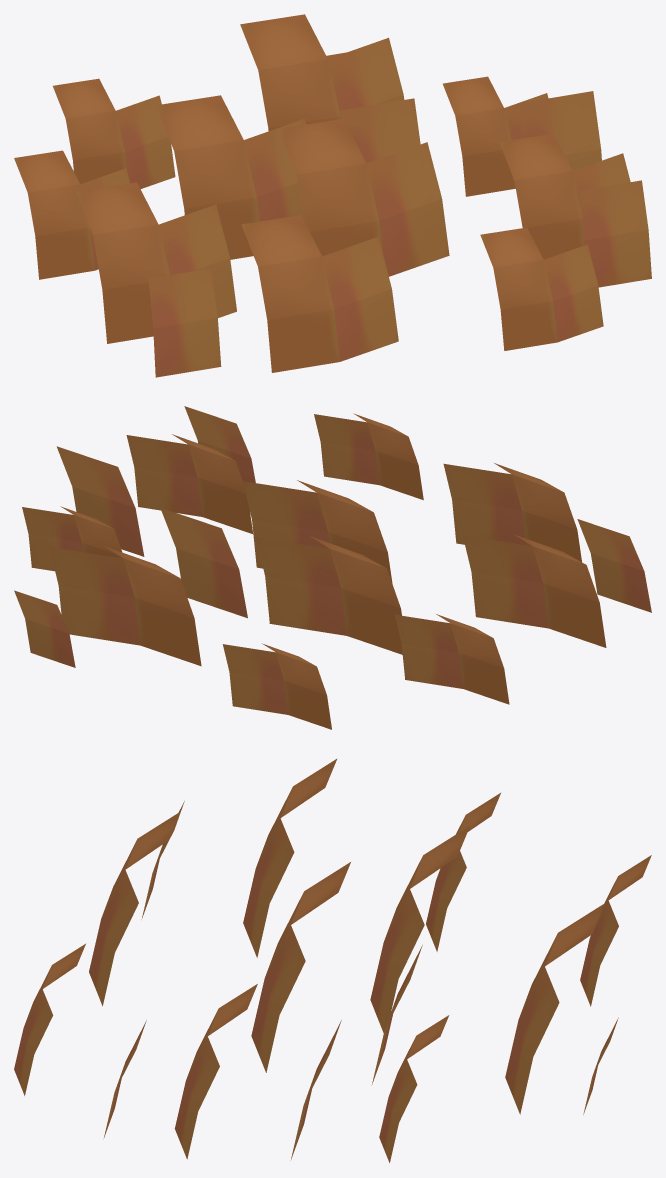
The model's file is grass_1.gltf.
3 views of the same model, one above another, from view 1: azimuth 30°, elevation 25°; view 2: azimuth 150°, elevation 25°; view 3: azimuth 270°, elevation 25° (orthographic). The views are drawn at different scales.
Parts seen in each view (by area): view 1: Grass1Mesh; view 2: Grass1Mesh; view 3: Grass1Mesh.
Boxes of the visible parts, x1,y1,x2,y2 form: Grass1Mesh: (14,14,651,377); Grass1Mesh: (14,406,651,729); Grass1Mesh: (14,759,651,1162).
Bounding box in the file's own units: 1.59 × 0.3904 × 1.55.
Materials: 1 (1 with a texture image).
